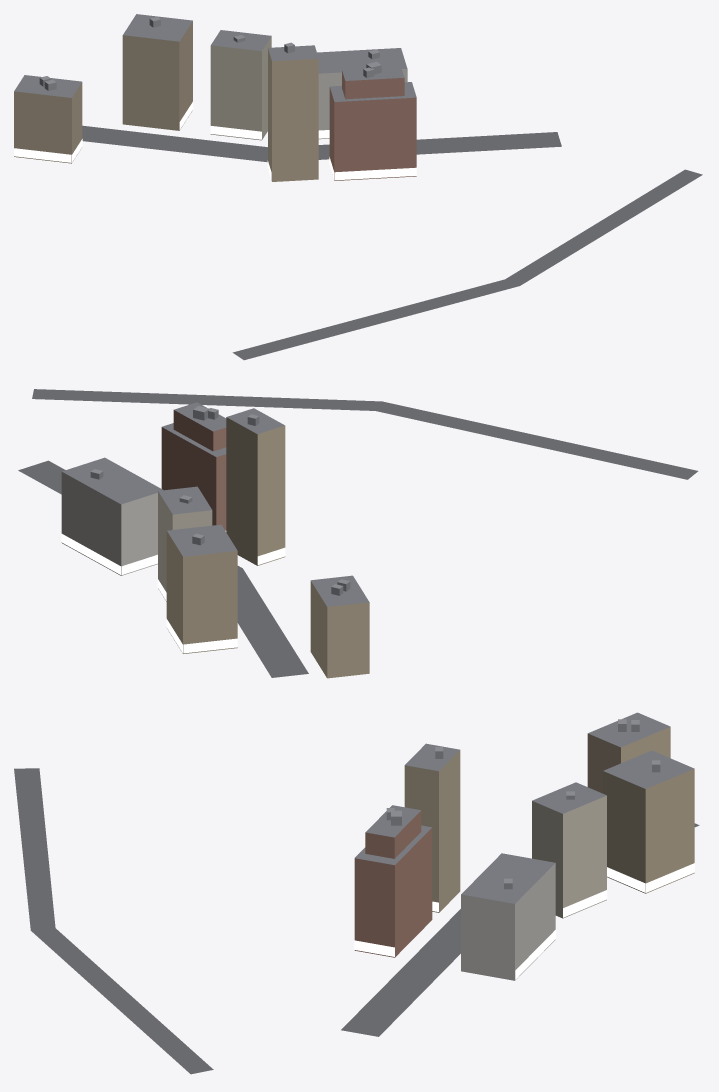
3 views of the same model, one above another, from view 1: azimuth 30°, elevation 25°; view 2: azimuth 150°, elevation 25°; view 3: azimuth 270°, elevation 25° (orthographic). The views are drawn at different scales.
Bounding box in the file's own units: 233 × 51.71 × 217.
